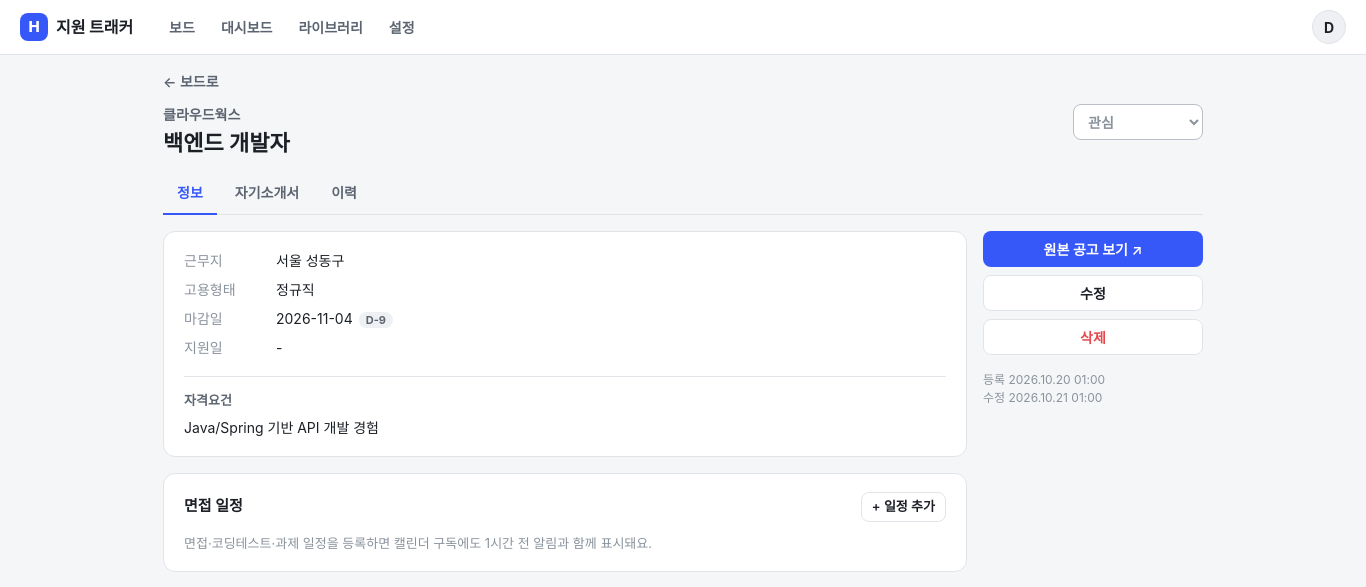
Test: 공고 상세 › 수정을 누르면 지금 값이 채워진 수정 창을 연다
The width and height of the screenshot is (1366, 587).
Click the button "수정" at (1093, 293), box [983,275,1203,311]
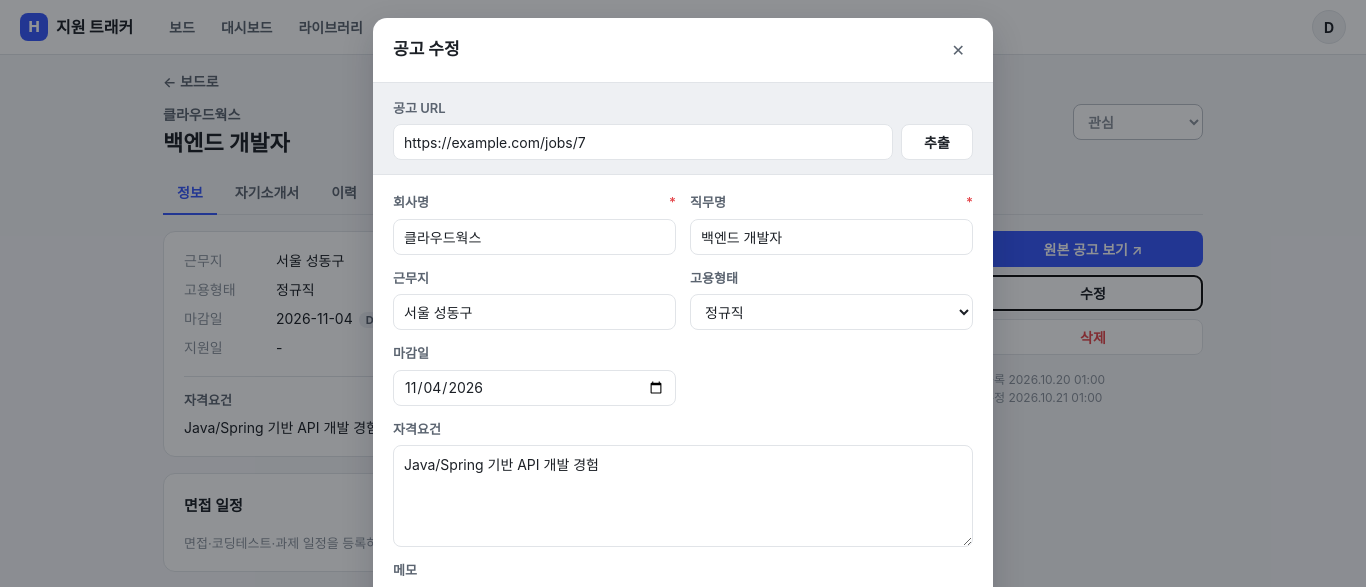
Result: the field showing "클라우드웍스" is shown at [393,218,676,254]
